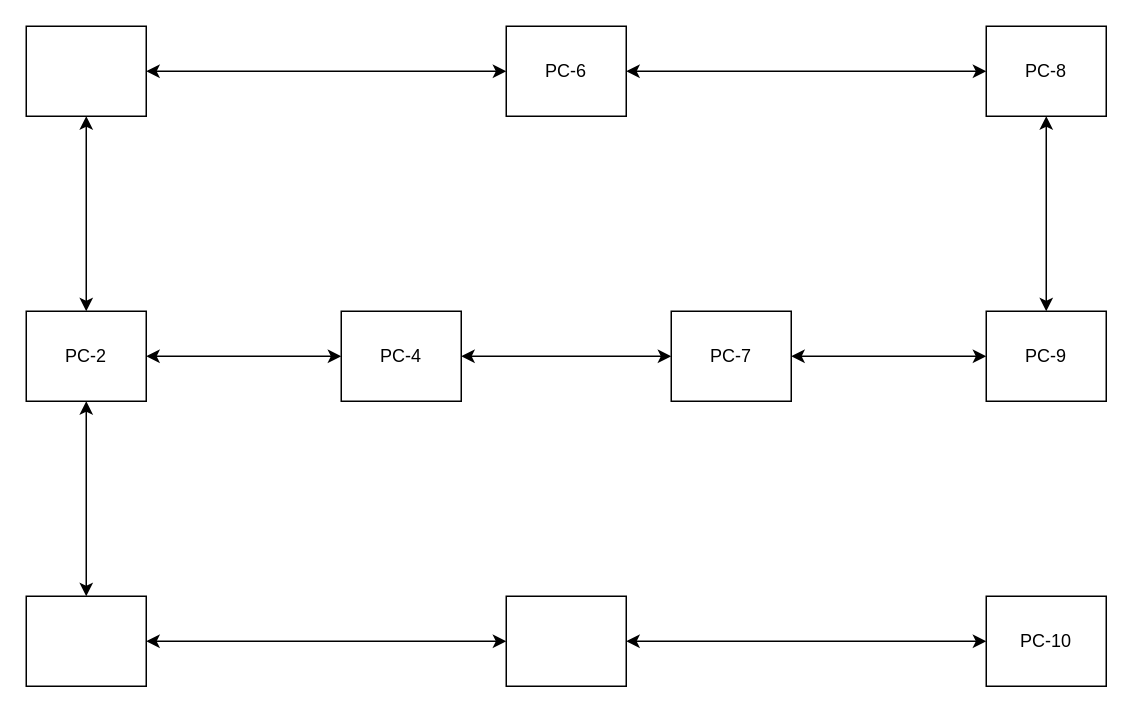
Some shapes in this 1133 by 713 pixel diagram are drawn without their labels. The centre of each missing label's shape, as x and y in pixels:
"PC-1" belongs at (85,640).
"PC-3" belongs at (85,70).
"PC-5" belongs at (565,640).
